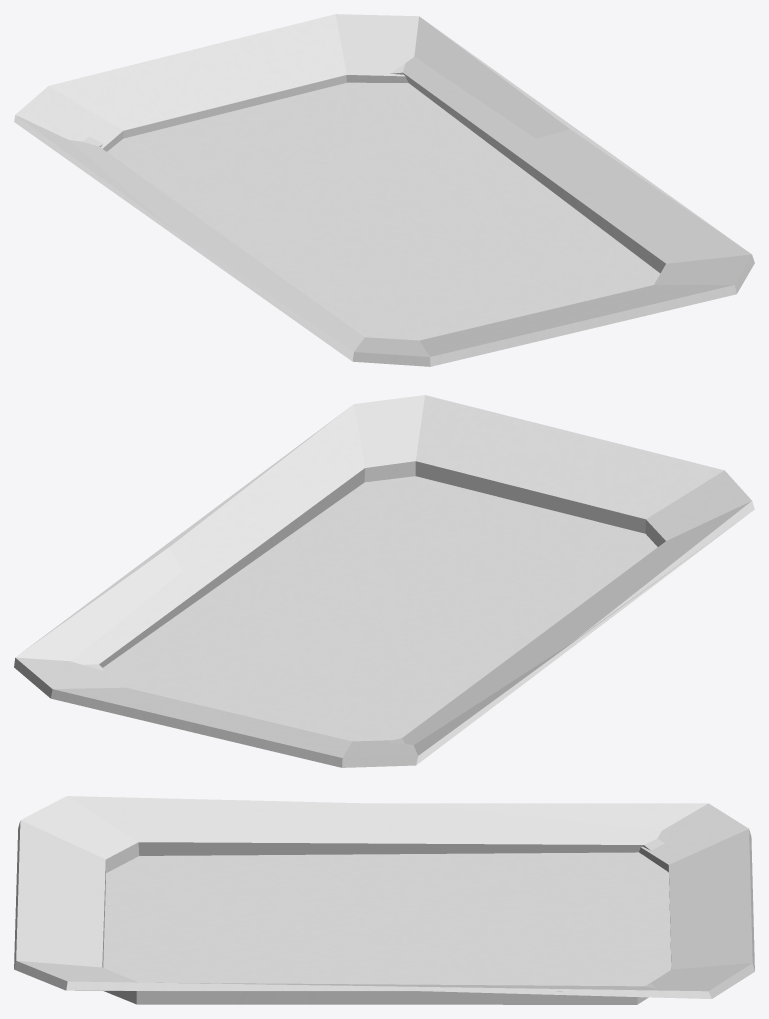
The model's file is vassoio.fbx.
The picture shows the model from 3 angles, top to bottom: view 1: azimuth 30°, elevation 25°; view 2: azimuth 150°, elevation 25°; view 3: azimuth 270°, elevation 25°; orthographic projection. The views are drawn at different scales.
Visible parts, largest first — view 1: tray; view 2: tray; view 3: tray.
Part boxes in pixels (left/top/right/bottom): tray: left=14, top=14, right=754, bottom=366; tray: left=14, top=395, right=754, bottom=767; tray: left=14, top=796, right=754, bottom=1004.
Size of the model in its own units: 93.15 by 9.89 by 155.
